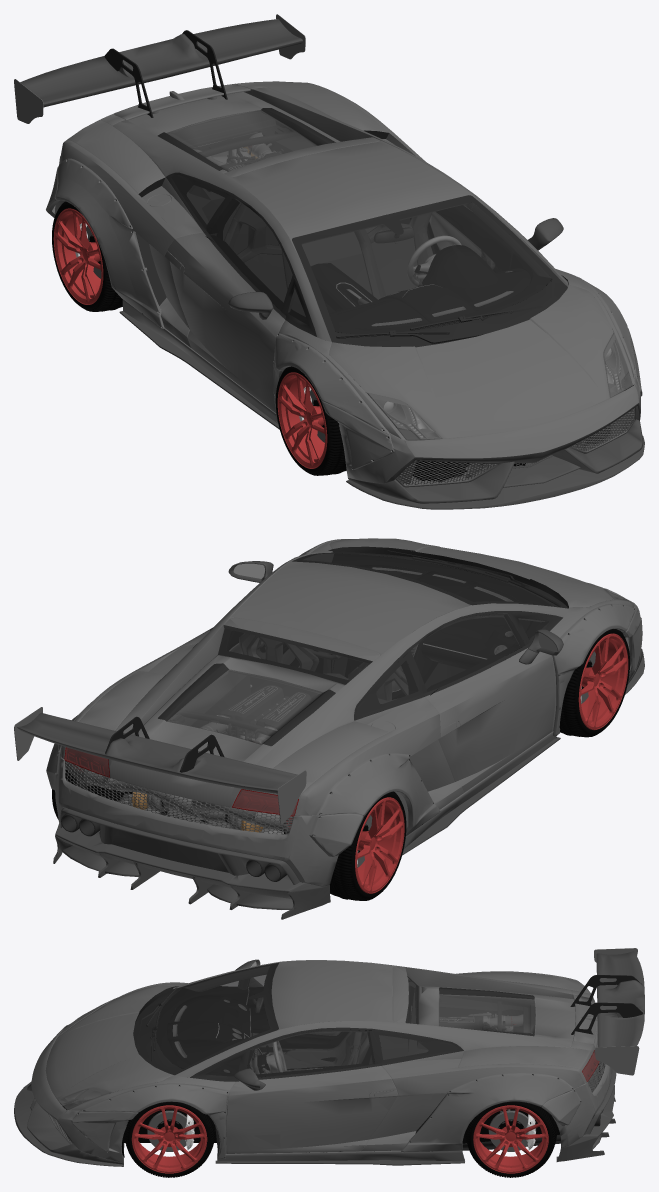
File: gallardo_30.glb
3 views of the same model, one above another, from view 1: azimuth 30°, elevation 25°; view 2: azimuth 150°, elevation 25°; view 3: azimuth 270°, elevation 25° (orthographic). The views are drawn at different scales.
Visible parts, largest first — view 1: gallardo_hood_b_gallardo_paint_0, gallardo_tankintake_gallardo_turbo_matblack_0, gallardo_wheel_02a_19x11_gallardo_wheel_01a_0, gallardo_backlight_tinted_gallardo_glass_tinted_0, gallardo_comodo_gallardo_cockpit_0; view 2: gallardo_wheel_02a_19x11_gallardo_wheel_01a_0, gallardo_tankintake_gallardo_turbo_matblack_0, gallardo_hood_b_gallardo_paint_0, gallardo_comodo_gallardo_cockpit_0, gallardo_backlight_tinted_gallardo_glass_tinted_0; view 3: gallardo_hood_b_gallardo_paint_0, gallardo_wheel_02a_19x11_gallardo_wheel_01a_0, gallardo_tankintake_gallardo_turbo_matblack_0, gallardo_comodo_gallardo_cockpit_0, gallardo_backlight_tinted_gallardo_glass_tinted_0.
Boxes of the visible parts, x1,y1,x2,y2 form: gallardo_hood_b_gallardo_paint_0: [14, 14, 642, 483]; gallardo_tankintake_gallardo_turbo_matblack_0: [20, 19, 644, 509]; gallardo_wheel_02a_19x11_gallardo_wheel_01a_0: [53, 81, 568, 468]; gallardo_backlight_tinted_gallardo_glass_tinted_0: [166, 110, 628, 440]; gallardo_comodo_gallardo_cockpit_0: [52, 111, 633, 481]; gallardo_wheel_02a_19x11_gallardo_wheel_01a_0: [60, 551, 628, 893]; gallardo_tankintake_gallardo_turbo_matblack_0: [17, 551, 644, 919]; gallardo_hood_b_gallardo_paint_0: [14, 538, 642, 886]; gallardo_comodo_gallardo_cockpit_0: [52, 546, 629, 900]; gallardo_backlight_tinted_gallardo_glass_tinted_0: [65, 538, 628, 815]; gallardo_hood_b_gallardo_paint_0: [31, 948, 639, 1162]; gallardo_wheel_02a_19x11_gallardo_wheel_01a_0: [124, 960, 597, 1173]; gallardo_tankintake_gallardo_turbo_matblack_0: [14, 951, 644, 1166]; gallardo_comodo_gallardo_cockpit_0: [62, 963, 561, 1177]; gallardo_backlight_tinted_gallardo_glass_tinted_0: [57, 966, 599, 1106].
Bounding box in the file's own units: 2.18 × 1.14 × 4.72.
Materials: 4 (4 with a texture image).
